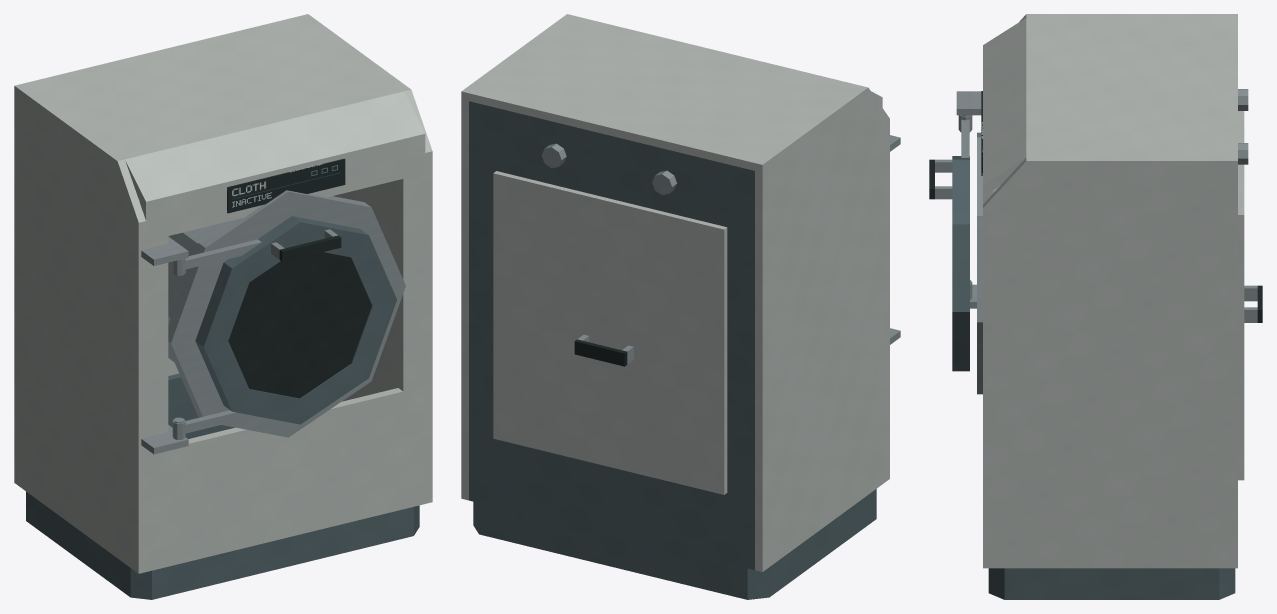
Rendered from AST-HSK-001.glb.
The picture shows the model from 3 angles, left to right: view 1: azimuth 30°, elevation 25°; view 2: azimuth 150°, elevation 25°; view 3: azimuth 270°, elevation 25°; orthographic projection. The views are drawn at different scales.
Parts seen in each view (by area): view 1: AST-HSK-001__static__staff_white_paint, AST-HSK-001__LOADING_HATCH_Z__staff_rubber, AST-HSK-001__static__staff_zinc, AST-HSK-001__LOADING_HATCH_Z__staff_bluegrey_paint, AST-HSK-001__static__staff_bluegrey_paint, AST-HSK-001__static__cloth_controls, AST-HSK-001__LOADING_HATCH_Z__staff_zinc; view 2: AST-HSK-001__static__staff_white_paint, AST-HSK-001__static__staff_bluegrey_paint, AST-HSK-001__REAR_SERVICE_COVER__staff_white_paint, AST-HSK-001__static__staff_zinc, AST-HSK-001__REAR_SERVICE_COVER__staff_rubber; view 3: AST-HSK-001__static__staff_white_paint, AST-HSK-001__static__staff_bluegrey_paint, AST-HSK-001__LOADING_HATCH_Z__staff_bluegrey_paint, AST-HSK-001__static__staff_zinc, AST-HSK-001__REAR_SERVICE_COVER__staff_white_paint, AST-HSK-001__LOADING_HATCH_Z__staff_zinc, AST-HSK-001__REAR_SERVICE_COVER__staff_zinc.
Part boxes in pixels (x1=…): AST-HSK-001__static__staff_white_paint: x1=14, y1=14, x2=432, y2=573; AST-HSK-001__LOADING_HATCH_Z__staff_rubber: x1=228, y1=235, x2=371, y2=398; AST-HSK-001__static__staff_zinc: x1=138, y1=190, x2=405, y2=454; AST-HSK-001__LOADING_HATCH_Z__staff_bluegrey_paint: x1=195, y1=216, x2=396, y2=424; AST-HSK-001__static__staff_bluegrey_paint: x1=26, y1=373, x2=419, y2=599; AST-HSK-001__static__cloth_controls: x1=227, y1=158, x2=345, y2=213; AST-HSK-001__LOADING_HATCH_Z__staff_zinc: x1=172, y1=229, x2=337, y2=439; AST-HSK-001__static__staff_white_paint: x1=461, y1=14, x2=889, y2=571; AST-HSK-001__static__staff_bluegrey_paint: x1=469, y1=101, x2=876, y2=599; AST-HSK-001__REAR_SERVICE_COVER__staff_white_paint: x1=493, y1=171, x2=727, y2=494; AST-HSK-001__static__staff_zinc: x1=541, y1=135, x2=900, y2=344; AST-HSK-001__REAR_SERVICE_COVER__staff_rubber: x1=574, y1=339, x2=627, y2=366; AST-HSK-001__static__staff_white_paint: x1=983, y1=14, x2=1237, y2=568; AST-HSK-001__static__staff_bluegrey_paint: x1=988, y1=568, x2=1235, y2=599; AST-HSK-001__LOADING_HATCH_Z__staff_bluegrey_paint: x1=952, y1=156, x2=969, y2=371; AST-HSK-001__static__staff_zinc: x1=956, y1=89, x2=1248, y2=394; AST-HSK-001__REAR_SERVICE_COVER__staff_white_paint: x1=1238, y1=111, x2=1244, y2=480; AST-HSK-001__LOADING_HATCH_Z__staff_zinc: x1=935, y1=115, x2=972, y2=299; AST-HSK-001__REAR_SERVICE_COVER__staff_zinc: x1=1244, y1=285, x2=1257, y2=322.
Size of the model in its own units: 1.2 by 1.7 by 1.15.
5 materials, 5 textured.
